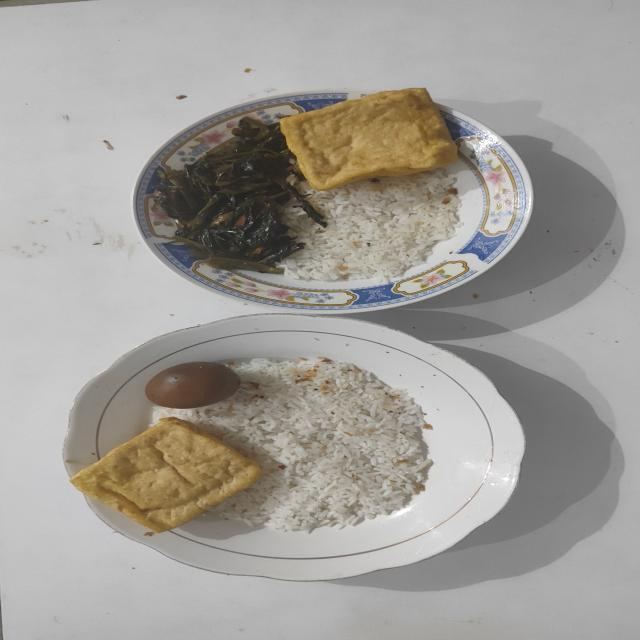nasi_putih: (165, 358, 433, 533), (285, 169, 462, 281)
tahu_goreng: (70, 418, 260, 532), (280, 88, 457, 190)
tumis_kangkung: (154, 118, 328, 271)
